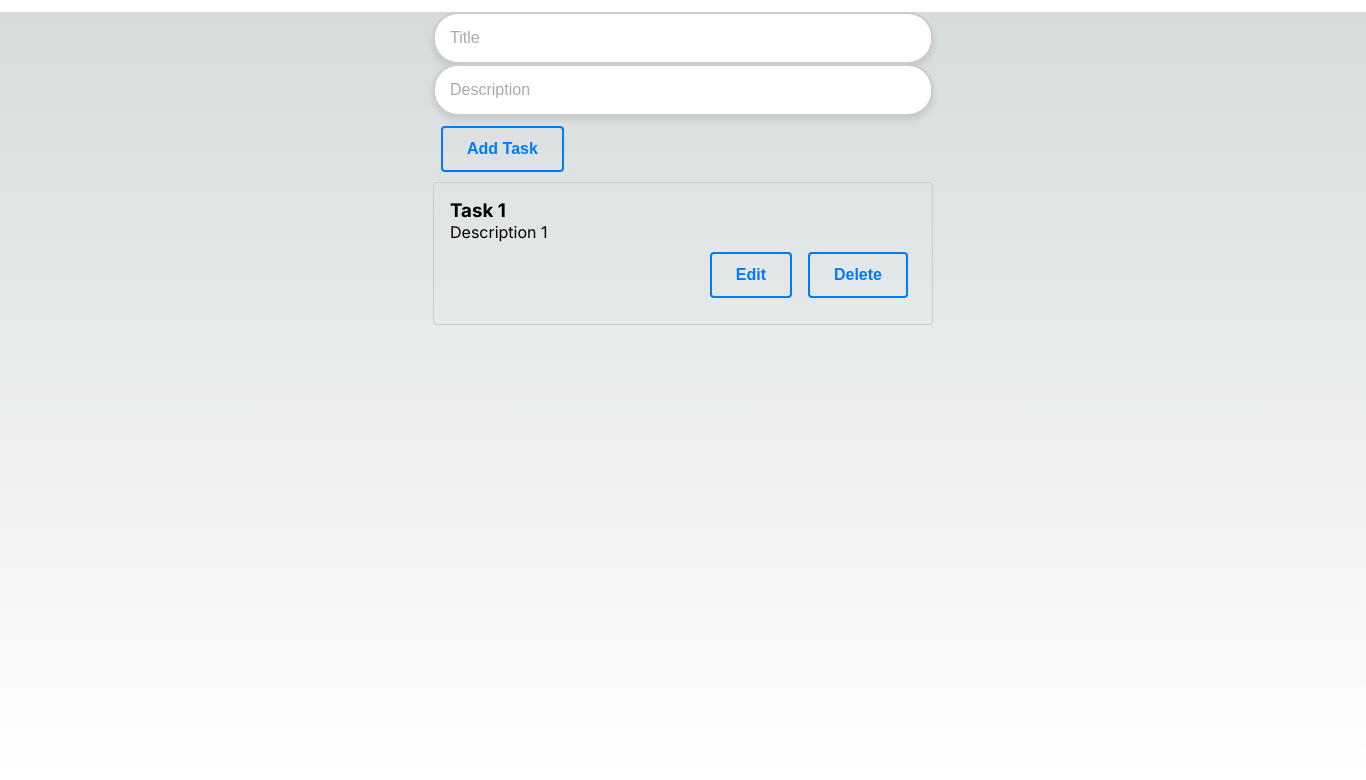
Test: TaskManager › edits a task
Expected: the heading "Task 1" is shown, x1=450 y1=199 x2=506 y2=222
Click the button "Edit" at {"x": 751, "y": 275}, box x1=710 y1=252 x2=792 y2=298
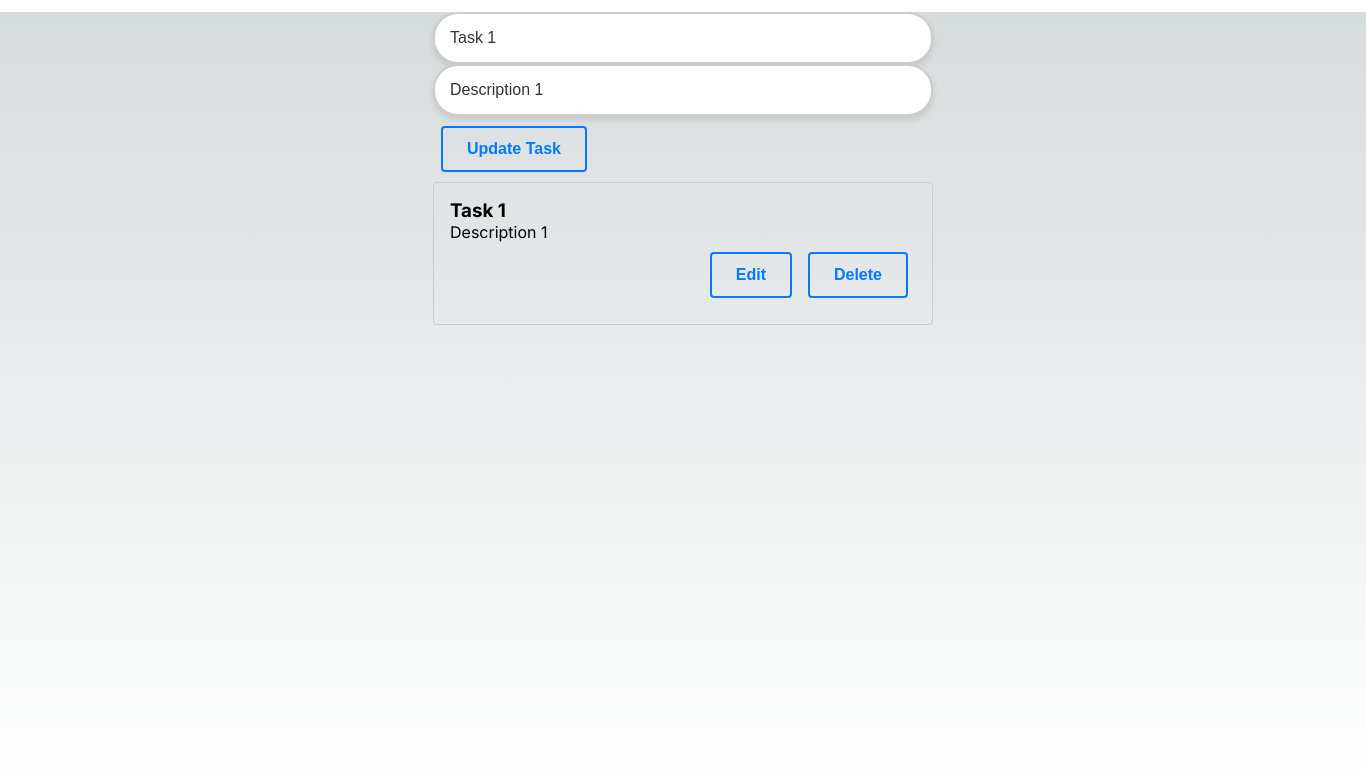
Replace the text in the 1st field with placeholder "Title" with "Updated Task" at {"x": 683, "y": 38}, box x1=433 y1=12 x2=933 y2=64
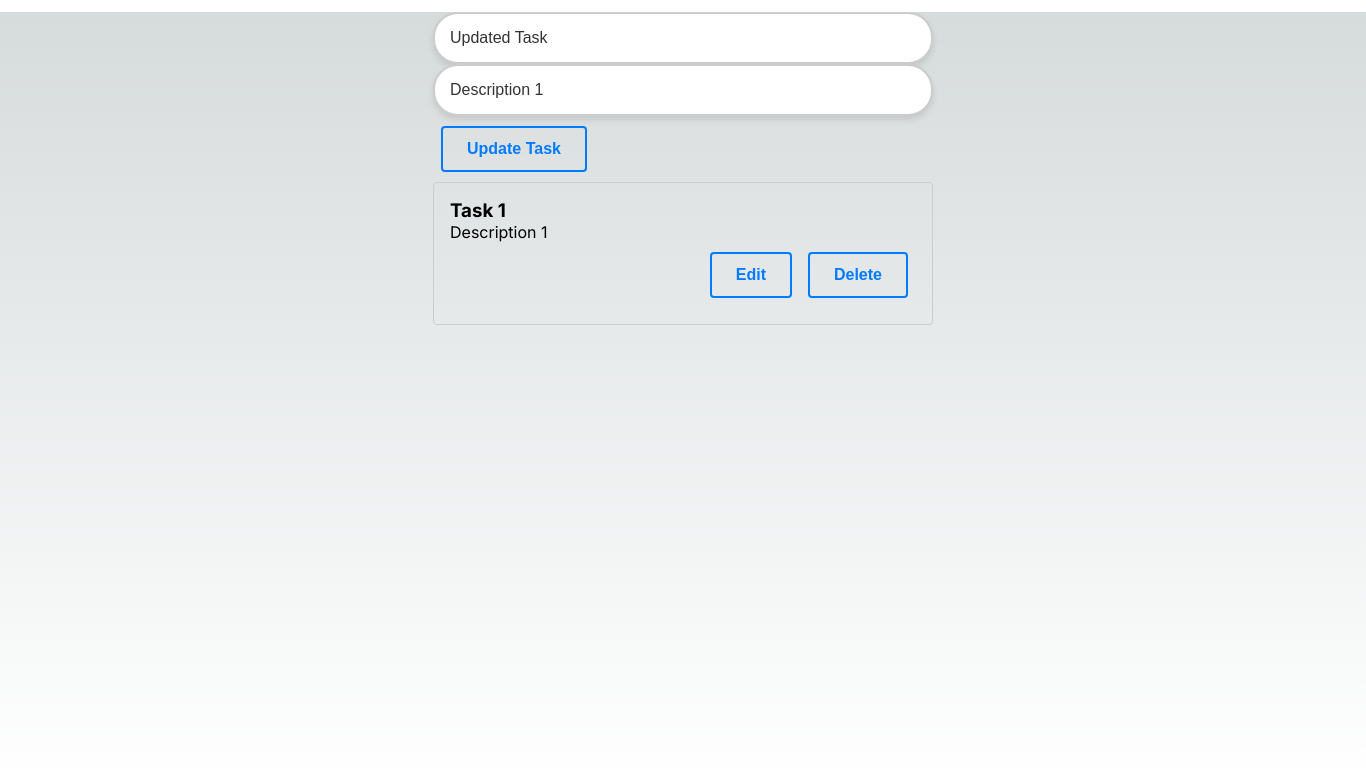
Replace the text in the 2nd field with placeholder "Description" with "Updated Description" at {"x": 683, "y": 90}, box x1=433 y1=64 x2=933 y2=116
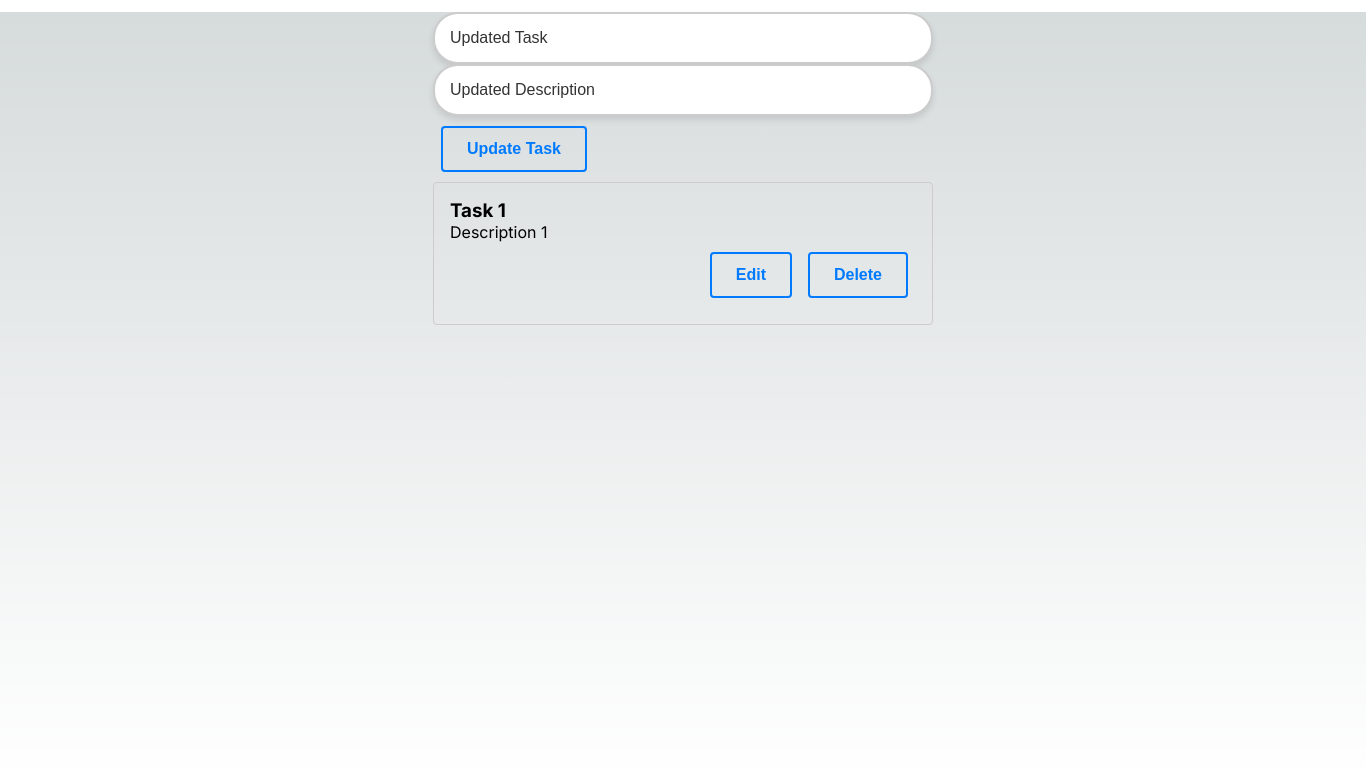
Click the button "Update Task" at {"x": 514, "y": 149}, box x1=441 y1=126 x2=587 y2=172
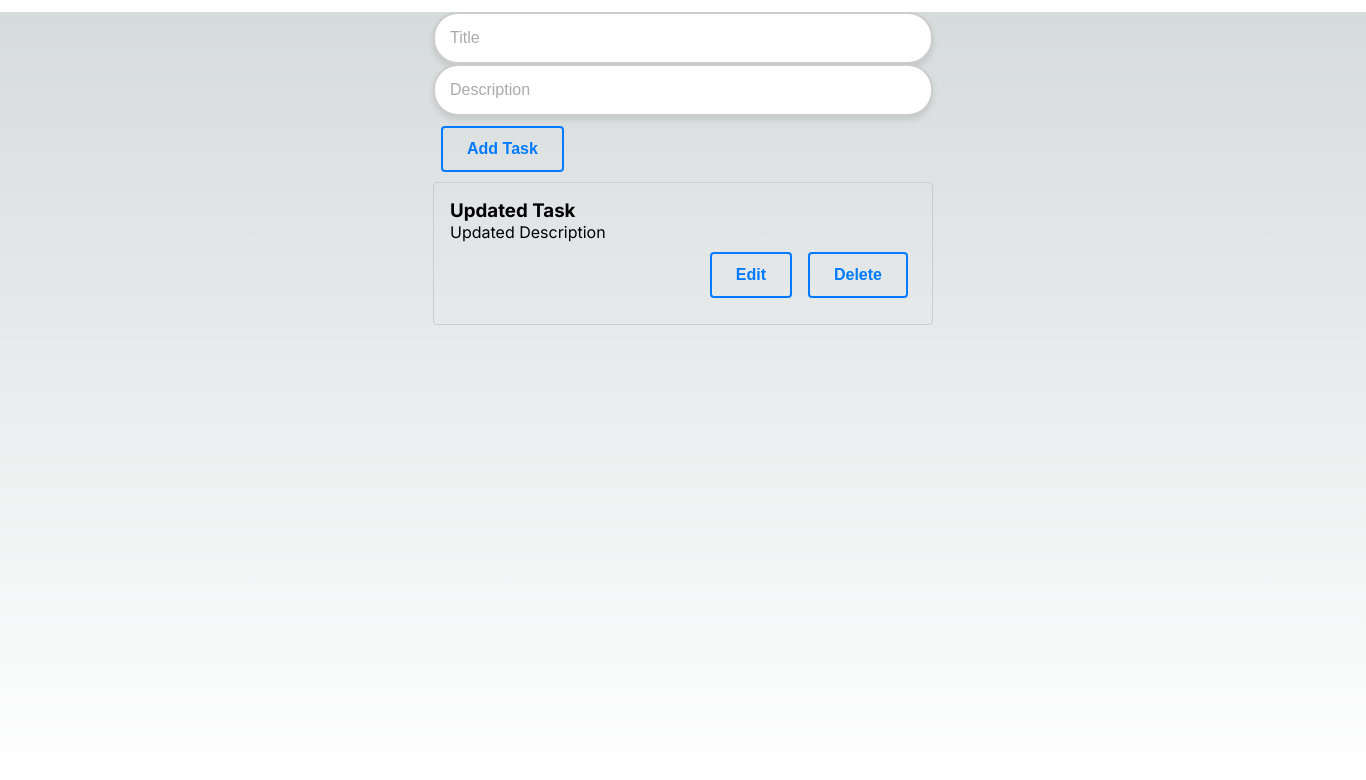
Expected: the heading "Updated Task" is shown, x1=450 y1=199 x2=576 y2=222
Expected: the text "Updated Description" is shown, x1=450 y1=222 x2=606 y2=242
